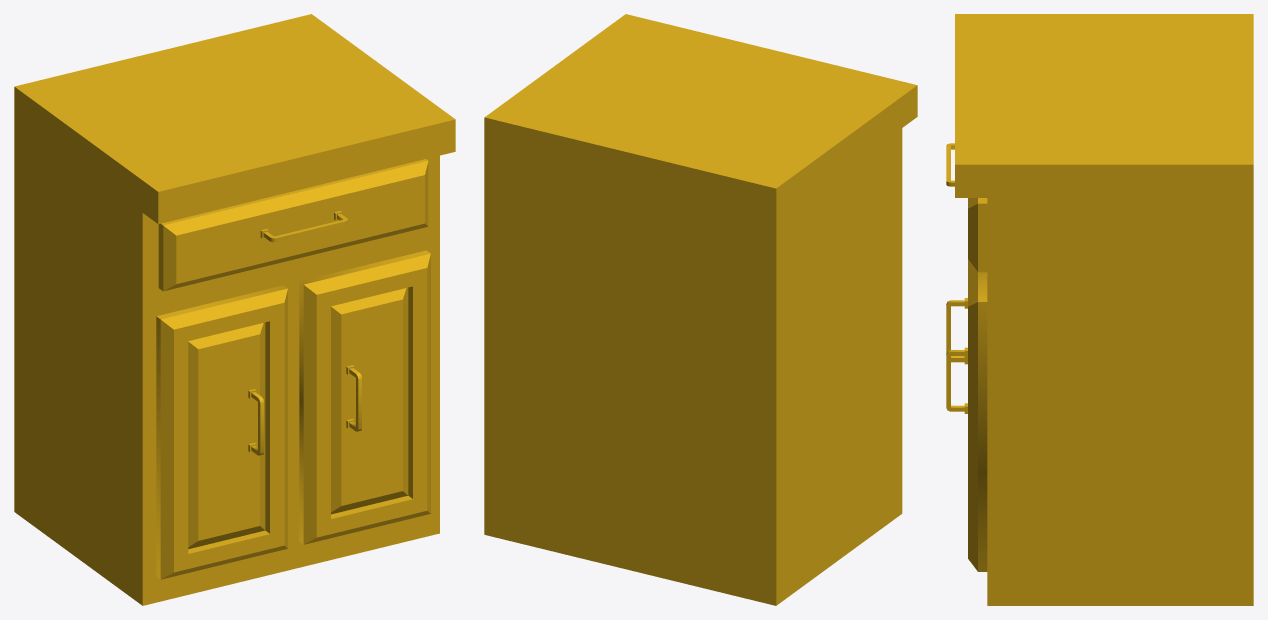
File: CTS_E_CabinetA.fbx
3 renders of one model, left to right at view 1: azimuth 30°, elevation 25°; view 2: azimuth 150°, elevation 25°; view 3: azimuth 270°, elevation 25°, orthographic. The views are drawn at different scales.
Visible parts, largest first — view 1: CTS_E_CabinetA; view 2: CTS_E_CabinetA; view 3: CTS_E_CabinetA.
Part boxes in pixels (x1,y1,x2,y2): CTS_E_CabinetA: (14,14,455,605); CTS_E_CabinetA: (484,14,917,605); CTS_E_CabinetA: (946,14,1253,605).
Bounding box in the file's own units: 78.51 × 107 × 67.79.
